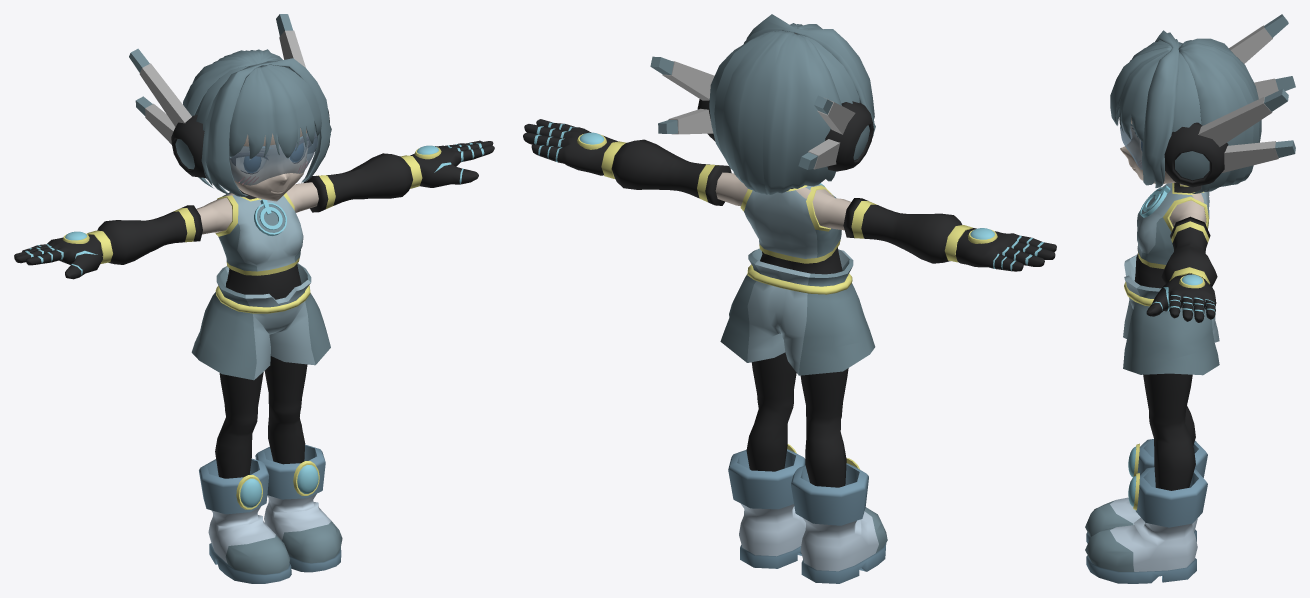
Rendered from Makina.fbx.
The picture shows the model from 3 angles, left to right: view 1: azimuth 30°, elevation 25°; view 2: azimuth 150°, elevation 25°; view 3: azimuth 270°, elevation 25°; orthographic projection. The views are drawn at different scales.
Visible parts, largest first — view 1: pasted__kutu (×2), pasted__pasted__pasted__pasted__pasted__pasted__pasted__te12, pasted__zubon, pasted__arm (×2), pasted__pasted__kami_base54, pasted__pasted__kami_base6, pasted__huku1, pasted__te (×2), pasted__pasted__pasted__pasted__pasted__pasted__pasted__te11, Google, pasted__pCube10 (×2), pasted__pasted__kami_base60 (+6 smaller); view 2: pasted__pasted__kami_base60, pasted__kutu (×2), pasted__zubon, pasted__pasted__pasted__pasted__pasted__pasted__pasted__te12, pasted__arm (×2), pasted__te (×2), pasted__huku1, pasted__pasted__kami_base6, pasted__pCube10 (×2), pasted__pSphere15, pasted__pCube11 (×2), pasted__pasted__kami_base12 (+1 smaller); view 3: pasted__kutu (×2), pasted__zubon, pasted__pasted__pasted__pasted__pasted__pasted__pasted__te12, pasted__pasted__kami_base60, pasted__pasted__kami_base6, pasted__pCube10 (×2), pasted__pasted__kami_base54, pasted__pSphere15, pasted__huku1, pasted__arm, pasted__pCube11 (×2), pasted__te (+6 smaller).
Part boxes in pixels (bbox=[...]): pasted__kutu (×2): bbox=[199, 444, 342, 583]; pasted__pasted__pasted__pasted__pasted__pasted__pasted__te12: bbox=[196, 182, 318, 478]; pasted__zubon: bbox=[191, 263, 330, 380]; pasted__arm (×2): bbox=[87, 153, 422, 264]; pasted__pasted__kami_base54: bbox=[229, 65, 321, 159]; pasted__pasted__kami_base6: bbox=[201, 58, 331, 196]; pasted__huku1: bbox=[215, 192, 303, 275]; pasted__te (×2): bbox=[14, 140, 494, 279]; pasted__pasted__pasted__pasted__pasted__pasted__pasted__te11: bbox=[230, 128, 308, 201]; Google: bbox=[229, 132, 317, 185]; pasted__pCube10 (×2): bbox=[129, 14, 305, 126]; pasted__pasted__kami_base60: bbox=[183, 49, 282, 188]; pasted__pasted__kami_base60: bbox=[709, 30, 841, 194]; pasted__kutu (×2): bbox=[728, 449, 887, 583]; pasted__zubon: bbox=[720, 248, 875, 375]; pasted__pasted__pasted__pasted__pasted__pasted__pasted__te12: bbox=[715, 172, 850, 487]; pasted__arm (×2): bbox=[601, 139, 972, 263]; pasted__te (×2): bbox=[523, 119, 1056, 271]; pasted__huku1: bbox=[740, 184, 841, 263]; pasted__pasted__kami_base6: bbox=[744, 14, 875, 137]; pasted__pCube10 (×2): bbox=[650, 56, 855, 134]; pasted__pSphere15: bbox=[825, 101, 873, 171]; pasted__pCube11 (×2): bbox=[658, 108, 839, 169]; pasted__pasted__kami_base12: bbox=[742, 30, 859, 103]; pasted__kutu (×2): bbox=[1085, 439, 1207, 583]; pasted__zubon: bbox=[1123, 254, 1219, 375]; pasted__pasted__pasted__pasted__pasted__pasted__pasted__te12: bbox=[1134, 193, 1206, 490]; pasted__pasted__kami_base60: bbox=[1178, 38, 1261, 193]; pasted__pasted__kami_base6: bbox=[1142, 30, 1179, 187]; pasted__pCube10 (×2): bbox=[1198, 14, 1288, 146]; pasted__pasted__kami_base54: bbox=[1110, 41, 1172, 142]; pasted__pSphere15: bbox=[1164, 122, 1228, 187]; pasted__huku1: bbox=[1137, 183, 1209, 268]; pasted__arm: bbox=[1161, 216, 1217, 286]; pasted__pCube11 (×2): bbox=[1221, 76, 1295, 173]; pasted__te: bbox=[1146, 273, 1216, 322].
Bounding box in the file's own units: 134 × 131 × 48.72.
